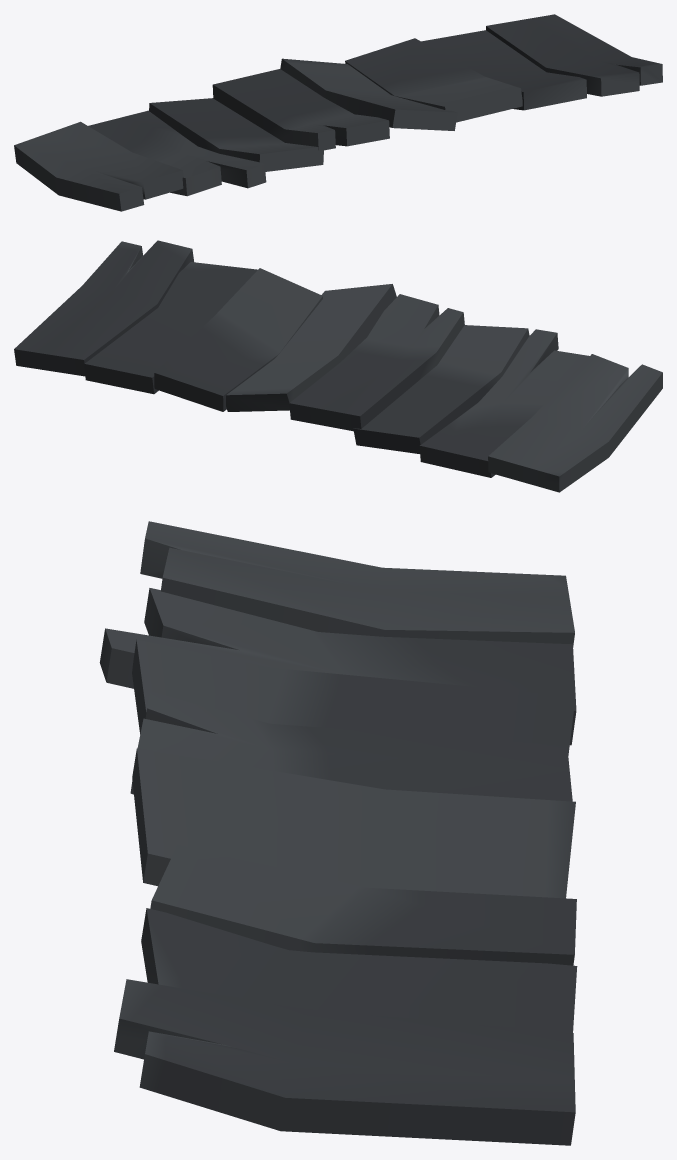
The model's file is SM_Bld_Roof_Edge_01.fbx.
3 renders of one model, top to bottom at view 1: azimuth 30°, elevation 25°; view 2: azimuth 150°, elevation 25°; view 3: azimuth 270°, elevation 25°, orthographic. The views are drawn at different scales.
Parts seen in each view (by area): view 1: SM_Bld_Roof_Edge_01; view 2: SM_Bld_Roof_Edge_01; view 3: SM_Bld_Roof_Edge_01.
Part boxes in pixels (x1,y1,x2,y2): SM_Bld_Roof_Edge_01: [14, 14, 662, 211]; SM_Bld_Roof_Edge_01: [14, 240, 662, 492]; SM_Bld_Roof_Edge_01: [99, 521, 577, 1145].
Bounding box in the file's own units: 255 × 30.04 × 95.59.
1 material, 1 textured.
